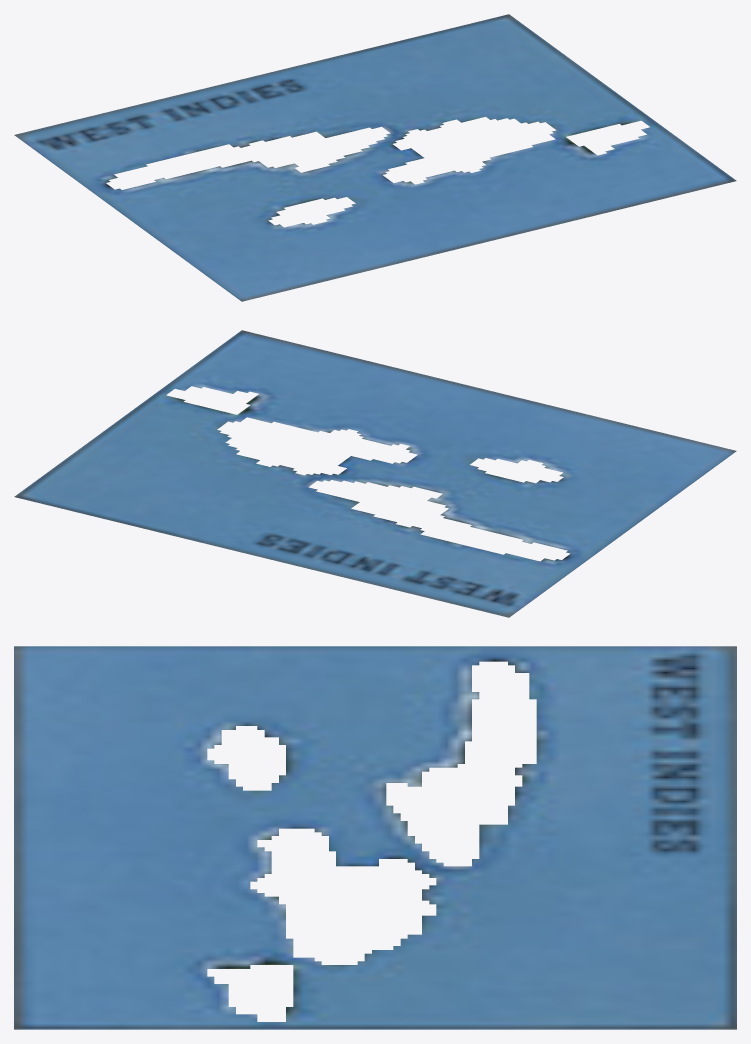
File: west-indies-water-tile.glb
The picture shows the model from 3 angles, top to bottom: view 1: azimuth 30°, elevation 25°; view 2: azimuth 150°, elevation 25°; view 3: azimuth 270°, elevation 25°; orthographic projection. The views are drawn at different scales.
Parts seen in each view (by area): view 1: Plane; view 2: Plane; view 3: Plane.
Part boxes in pixels (x1,y1,x2,y2): Plane: (14,14,736,301); Plane: (14,330,736,617); Plane: (14,646,736,1029).
Bounding box in the file's own units: 0.368 × 0 × 0.2934.
Materials: 1 (1 with a texture image).
